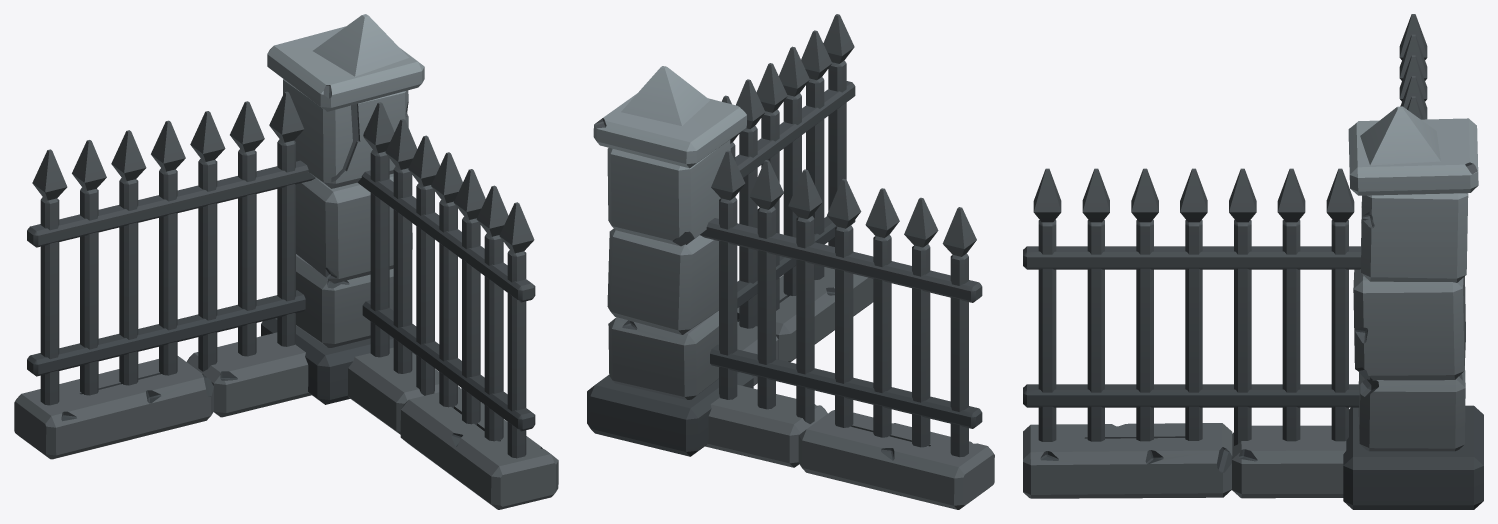
Rendered from graveyard_fence_corner.glb.
3 renders of one model, left to right at view 1: azimuth 30°, elevation 25°; view 2: azimuth 150°, elevation 25°; view 3: azimuth 270°, elevation 25°, orthographic. The views are drawn at different scales.
Parts seen in each view (by area): view 1: graveyard_fence_corner; view 2: graveyard_fence_corner; view 3: graveyard_fence_corner.
Boxes of the visible parts, x1,y1,x2,y2 form: graveyard_fence_corner: (14, 14, 558, 509); graveyard_fence_corner: (587, 14, 994, 509); graveyard_fence_corner: (1023, 14, 1483, 509).
Size of the model in its own units: 2.36 by 2.17 by 2.36.
1 material, 1 textured.
